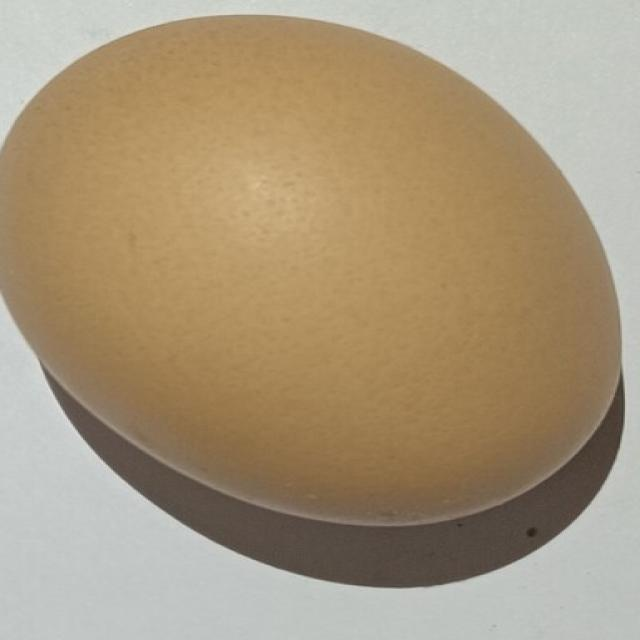fresh: (0, 11, 623, 525)
